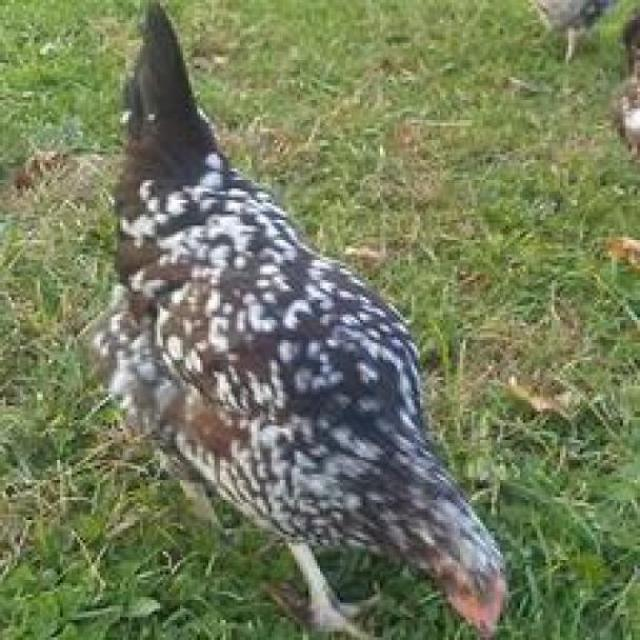Chicken: (56, 0, 560, 640)
